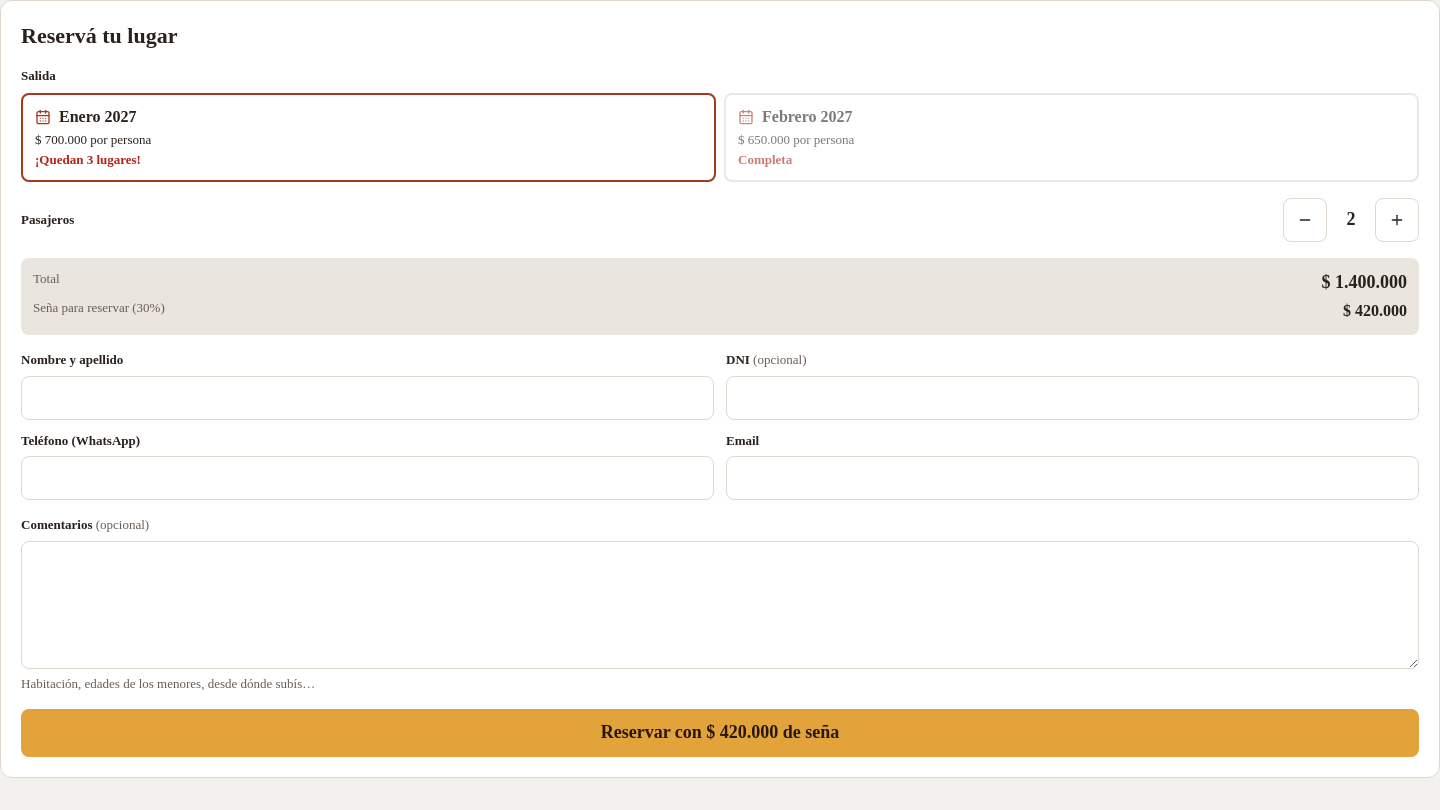
Test case: Paquetes › reserva con seña sin pasarse de los lugares que quedan
The image size is (1440, 810).
Expected: the radio button labelled "Febrero 2027 $ 650.000 por persona Completa" is disabled, [724, 93, 1419, 182]
Expected: the text "¡Quedan 3 lugares!" is shown, [35, 151, 141, 170]
Click the button named "Un pasajero más" at (1397, 220), box [1375, 198, 1419, 242]
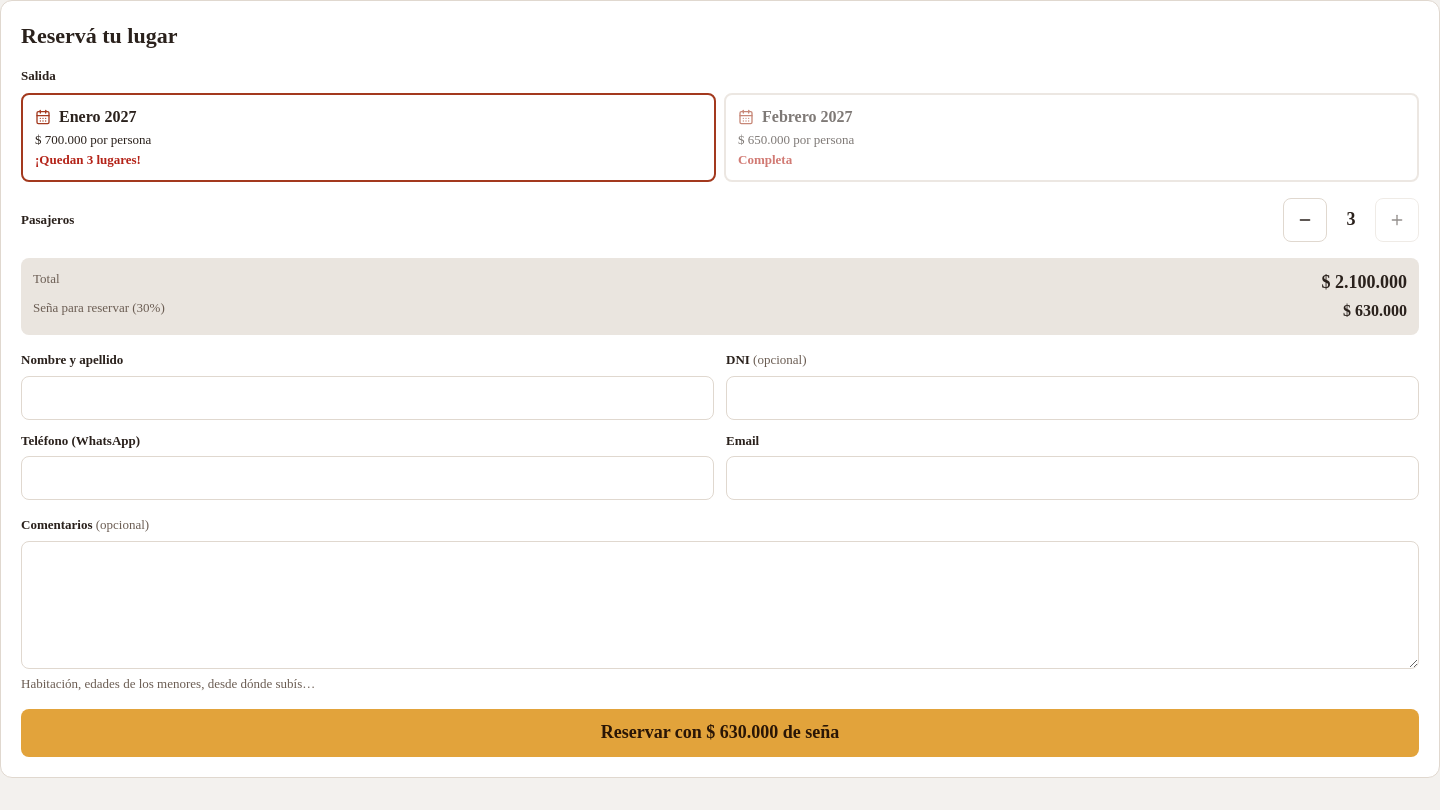
Now the button named "Un pasajero más" is disabled, box [1375, 198, 1419, 242]
Now the text "$ 2.100.000" is shown, box [1322, 272, 1407, 292]
Click the button "Reservar con $ 630.000 de seña" at (720, 733), box [21, 709, 1419, 757]
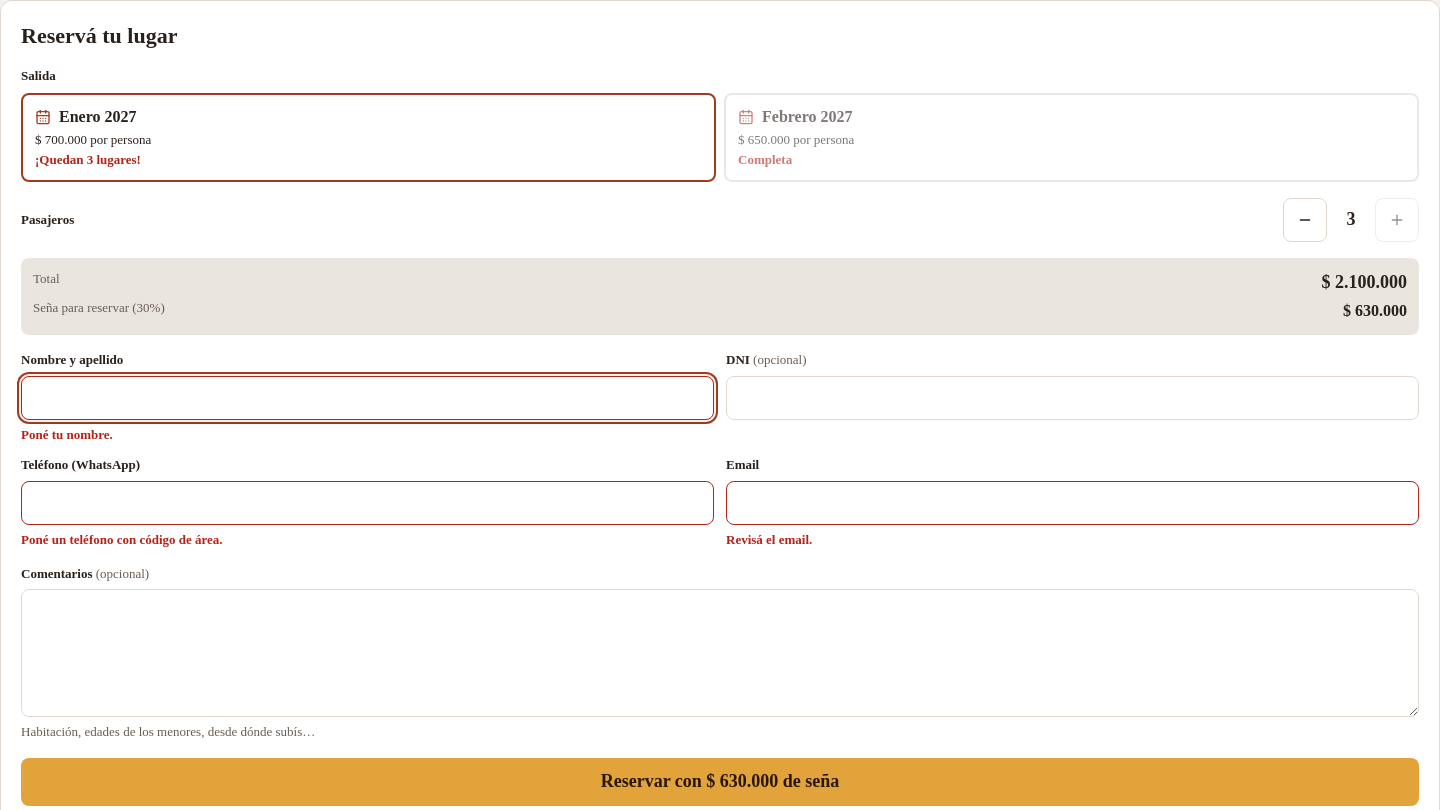
Now the text "Poné tu nombre." is shown, box [21, 427, 113, 442]
Type "Laura Gómez" into the field labelled "Nombre y apellido" at (368, 398), box [21, 376, 714, 420]
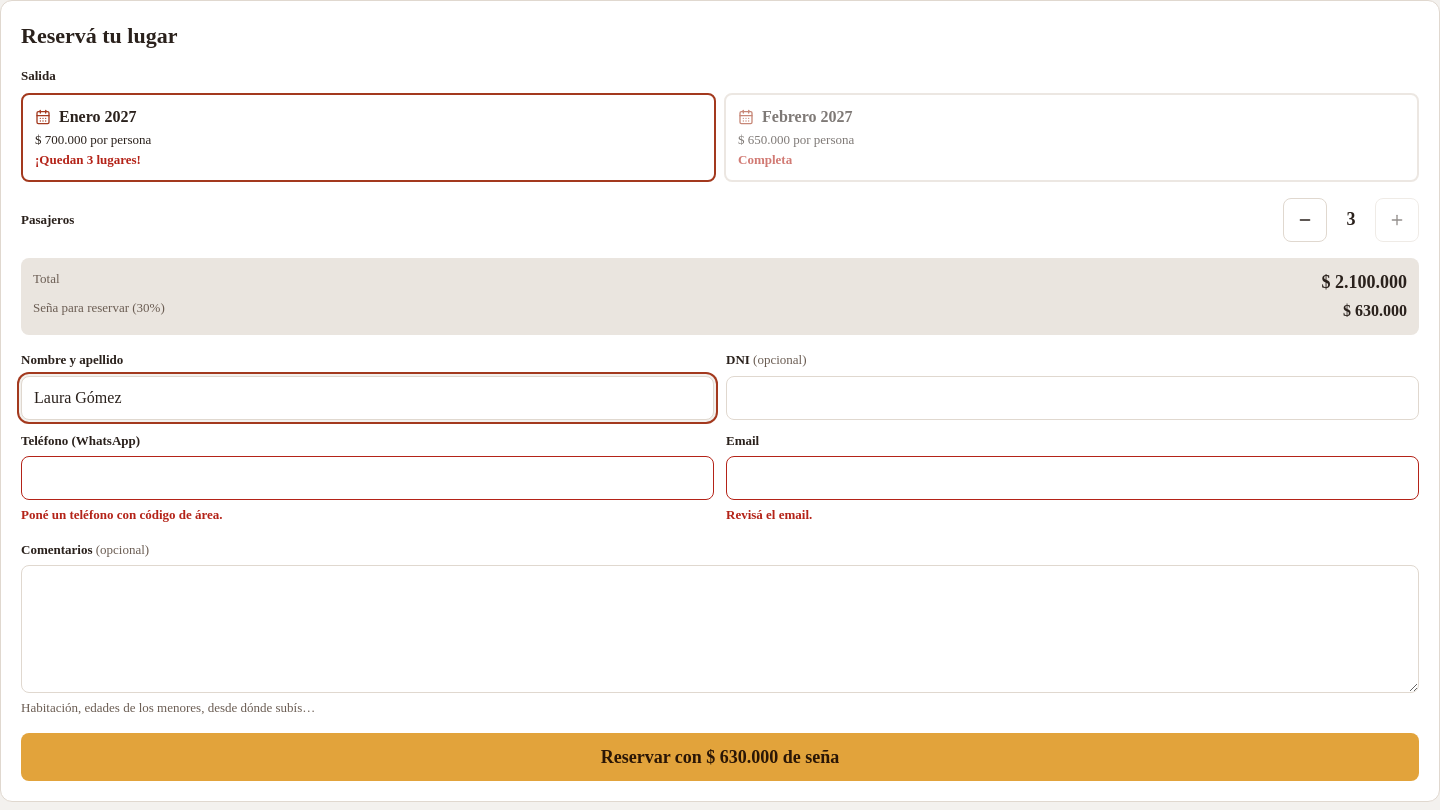
Type "264 555-1234" into the field labelled "Teléfono (WhatsApp)" at (368, 478), box [21, 456, 714, 500]
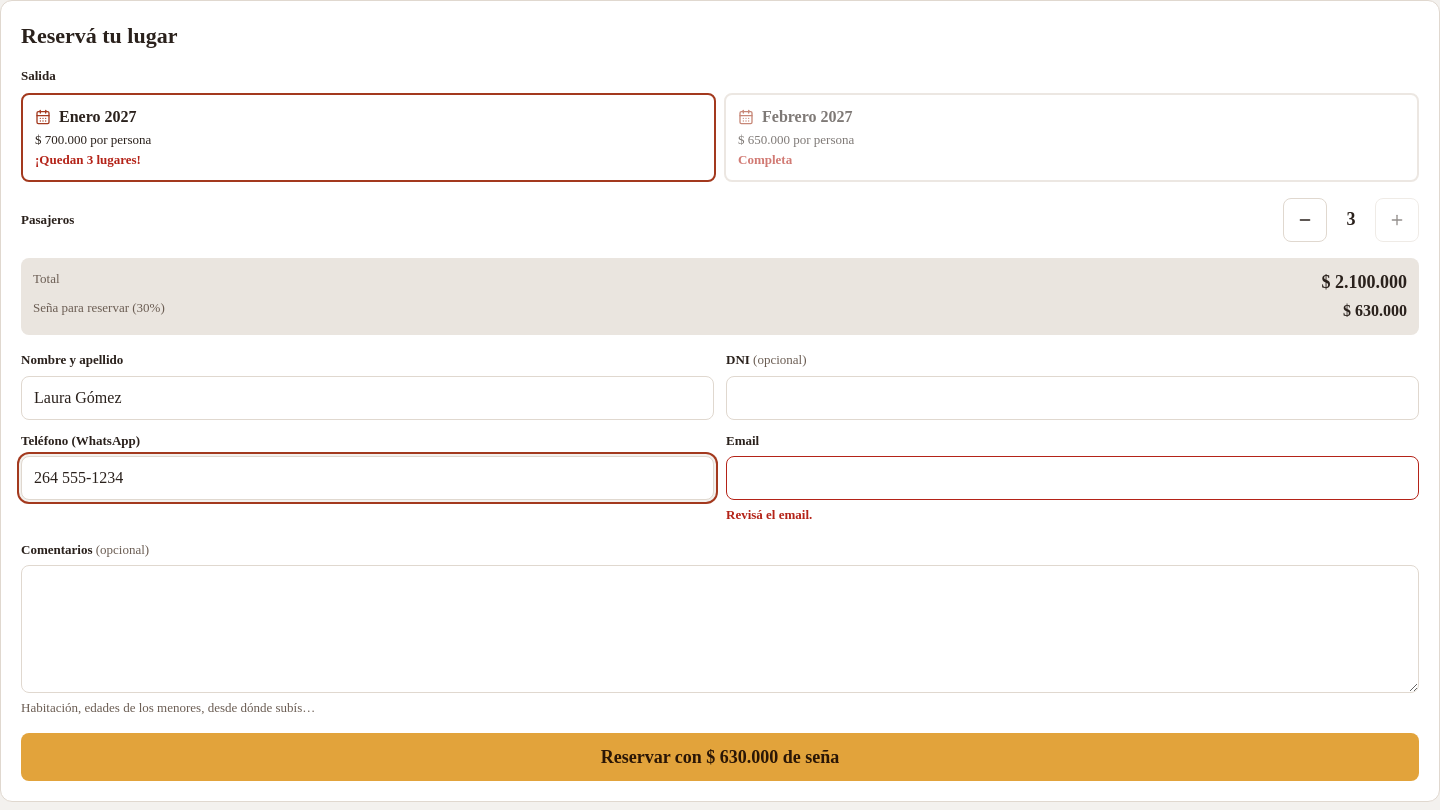
Type "laura@gmail.com" into the field labelled "Email" at (1072, 478), box [726, 456, 1419, 500]
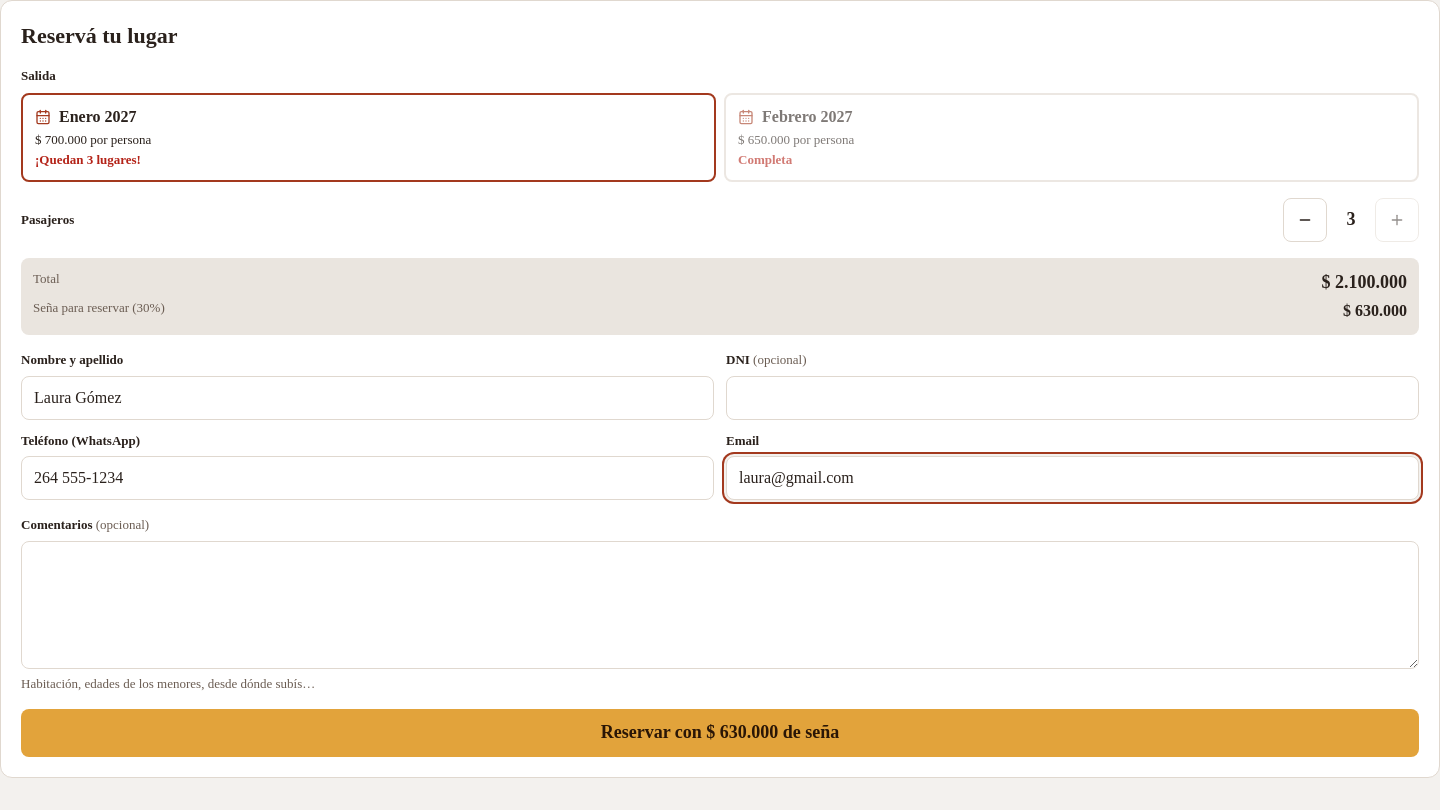
Click the button "Reservar con $ 630.000 de seña" at (720, 733), box [21, 709, 1419, 757]
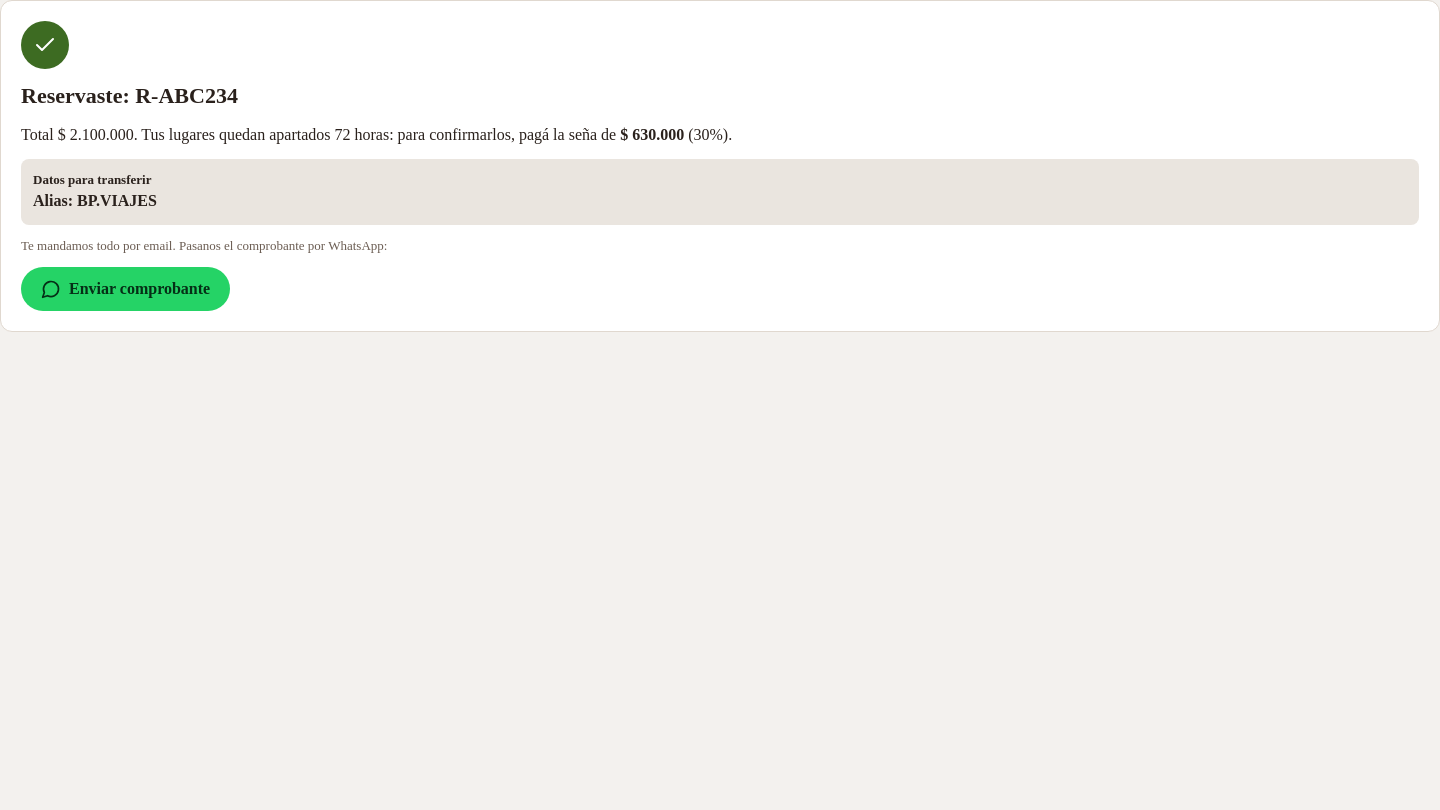
Now the heading "Reservaste: R-ABC234" is shown, box [21, 83, 238, 108]
Now the text "Alias: BP.VIAJES" is shown, box [33, 192, 157, 209]
